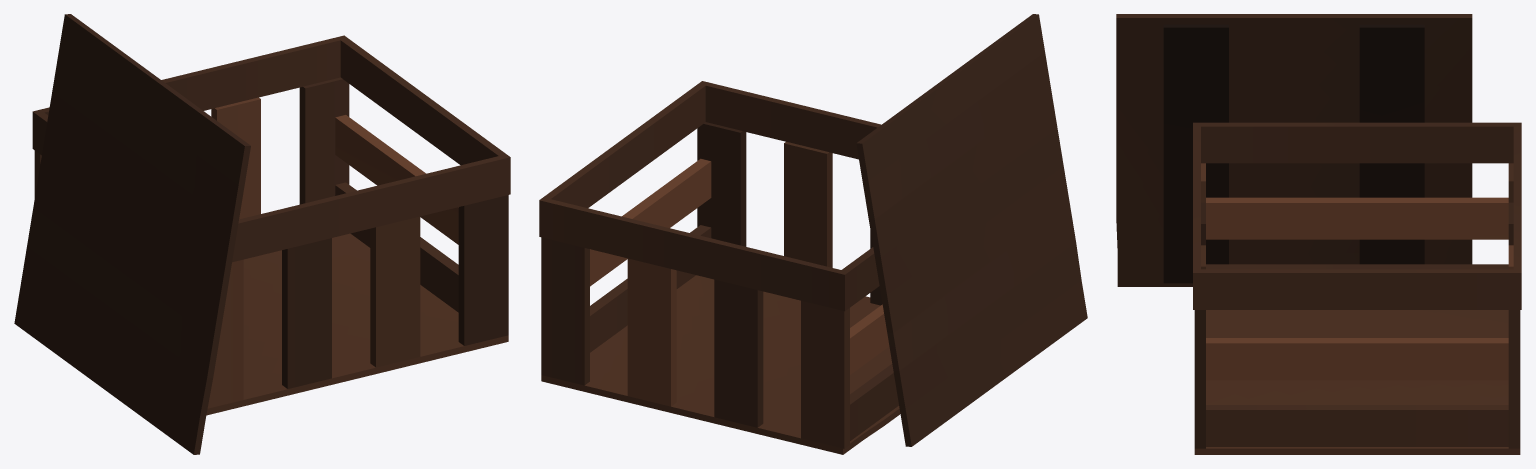
The model's file is Med Dark Crate Leaned Lid.fbx.
The picture shows the model from 3 angles, left to right: view 1: azimuth 30°, elevation 25°; view 2: azimuth 150°, elevation 25°; view 3: azimuth 270°, elevation 25°; orthographic projection.
Visible parts, largest first — view 1: Med Dark Crate Leaned Lid; view 2: Med Dark Crate Leaned Lid; view 3: Med Dark Crate Leaned Lid.
Boxes of the visible parts, x1,y1,x2,y2 form: Med Dark Crate Leaned Lid: (14,14,510,454); Med Dark Crate Leaned Lid: (539,14,1087,454); Med Dark Crate Leaned Lid: (1116,14,1521,454).
Size of the model in its own units: 190 by 237 by 236.
1 material, 1 textured.
